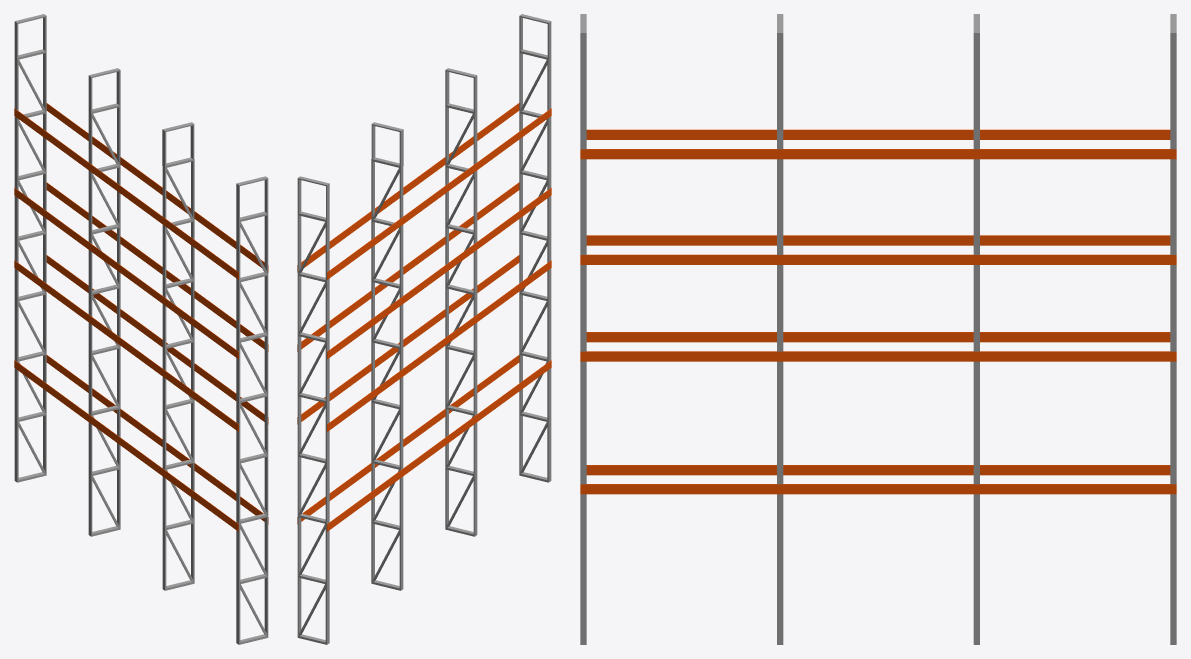
The model's file is regal3.FBX.
The picture shows the model from 3 angles, left to right: view 1: azimuth 30°, elevation 25°; view 2: azimuth 150°, elevation 25°; view 3: azimuth 270°, elevation 25°; orthographic projection. The views are drawn at different scales.
Visible parts, largest first — view 1: Rectangle070, Rectangle069, Rectangle068, Rectangle071, Rectangle039, Rectangle037, Rectangle042, Rectangle061, Rectangle041, Rectangle053, Rectangle055, Rectangle045 (+24 smaller); view 2: Rectangle070, Rectangle069, Rectangle068, Rectangle071, Rectangle061, Rectangle063, Rectangle066, Rectangle045, Rectangle037, Rectangle053, Rectangle039, Rectangle047 (+24 smaller); view 3: Rectangle070, Rectangle069, Rectangle068, Rectangle071.
Boxes of the visible parts, box(x1,y1,x2,y2) form: Rectangle070: box(14, 255, 268, 431); Rectangle069: box(14, 355, 268, 531); Rectangle068: box(14, 103, 268, 279); Rectangle071: box(14, 182, 268, 359); Rectangle039: box(236, 453, 268, 523); Rectangle037: box(236, 574, 268, 644); Rectangle042: box(236, 272, 268, 342); Rectangle061: box(14, 411, 46, 482); Rectangle041: box(236, 332, 268, 403); Rectangle053: box(88, 466, 120, 536); Rectangle055: box(88, 345, 120, 415); Rectangle045: box(162, 520, 194, 590); Rectangle070: box(297, 255, 551, 431); Rectangle069: box(297, 355, 551, 531); Rectangle068: box(297, 103, 551, 279); Rectangle071: box(297, 182, 551, 359); Rectangle061: box(297, 574, 329, 644); Rectangle063: box(297, 453, 329, 523); Rectangle066: box(297, 272, 329, 342); Rectangle045: box(445, 466, 477, 536); Rectangle037: box(519, 411, 551, 482); Rectangle053: box(371, 520, 403, 590); Rectangle039: box(519, 291, 551, 361); Rectangle047: box(445, 345, 477, 415); Rectangle070: box(580, 332, 1176, 361); Rectangle069: box(580, 465, 1176, 494); Rectangle068: box(580, 129, 1176, 159); Rectangle071: box(580, 235, 1176, 264).
Bounding box in the file's own units: 339 × 4951 × 4375.
